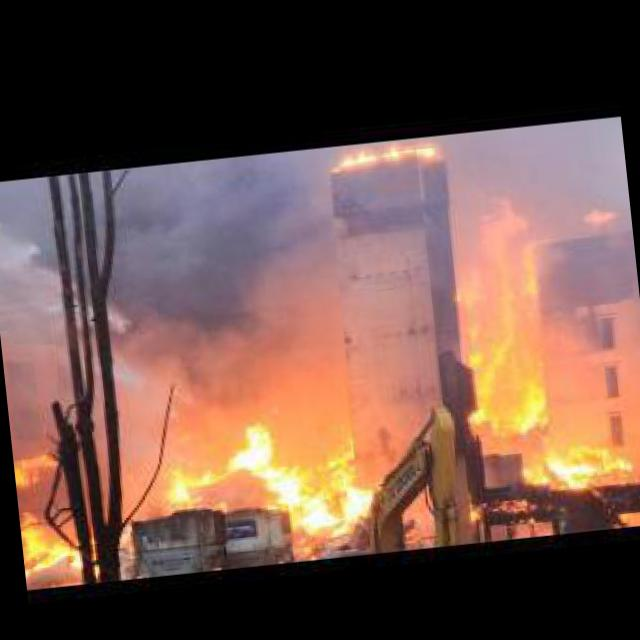fire: (165, 410, 392, 562), (315, 136, 449, 174), (18, 500, 82, 564), (12, 437, 70, 488)
